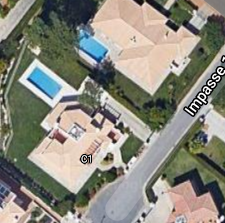pool: (28, 70, 58, 97), (77, 34, 108, 60)
